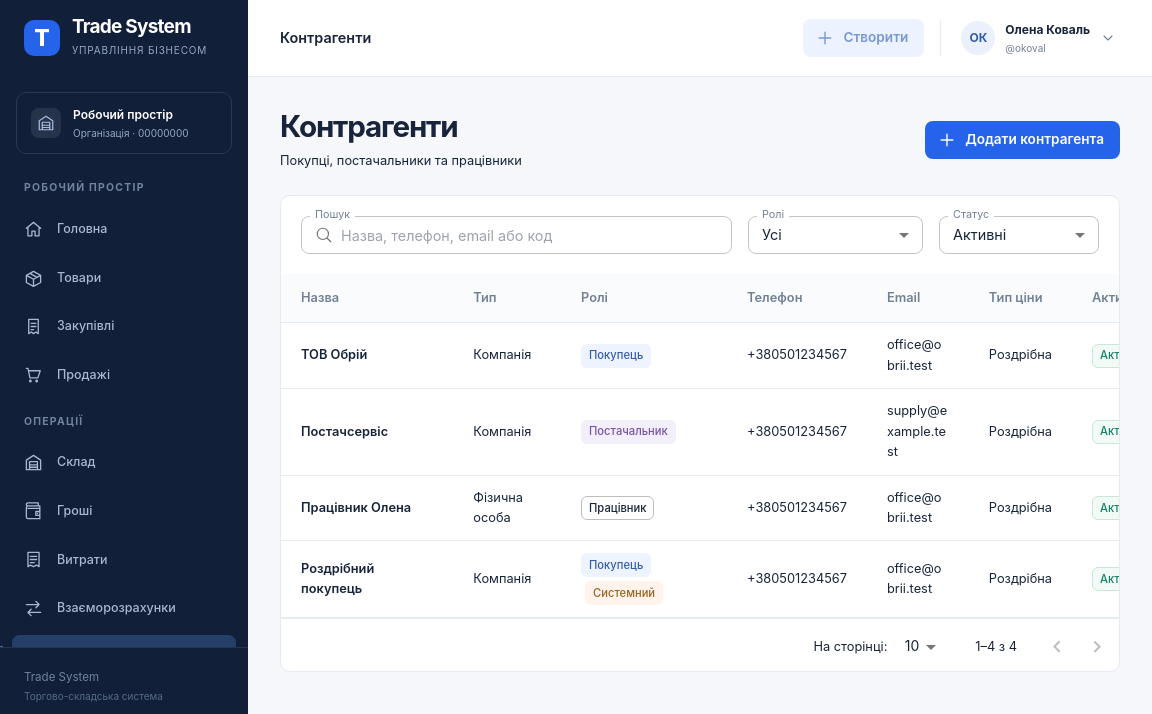
Counterparty UI › filters inactive parties and includes them in All
Check: the link "ТОВ Обрій" is shown, box [301,347,367,362]
Click the dropdown named "Статус". click: click(980, 234)
box: [953,226,1006,243]
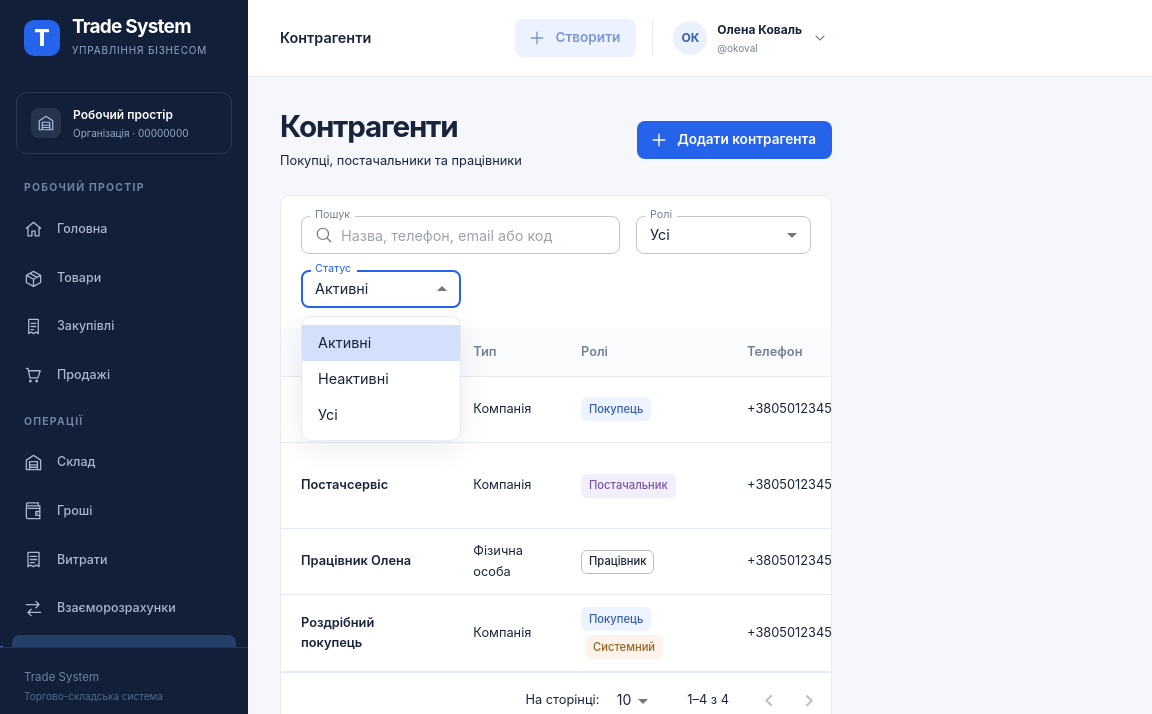
Click the option "Неактивні". click: click(353, 378)
box: [318,370,389,387]
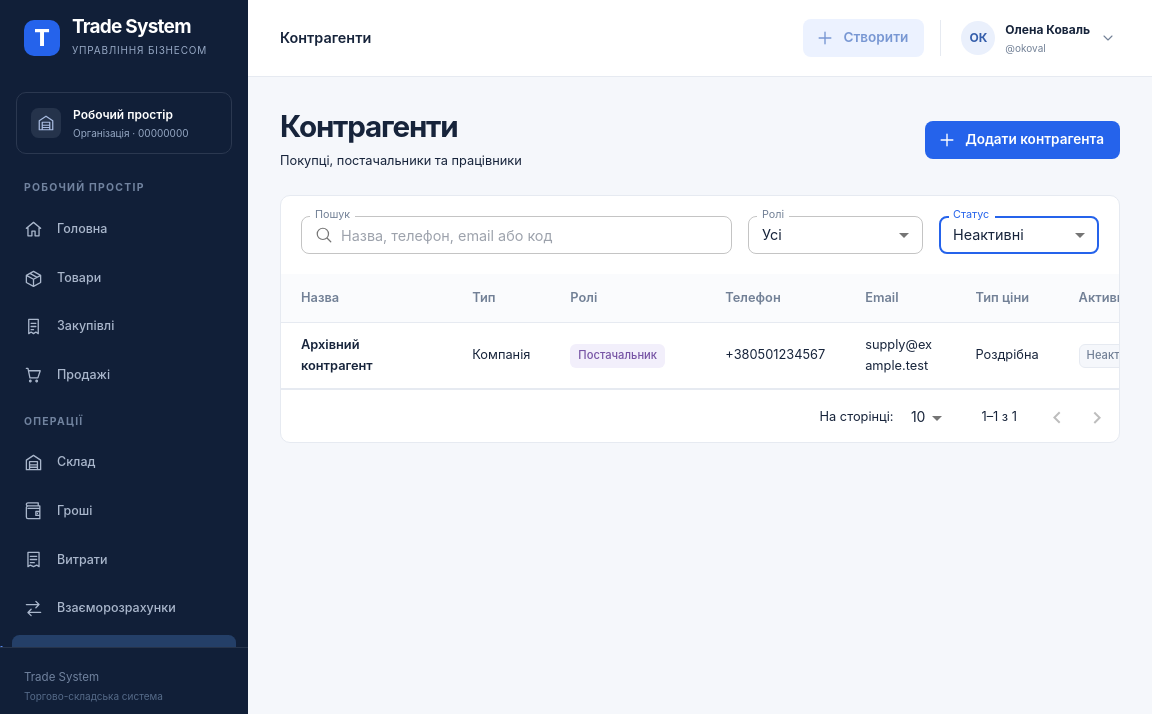
Check: the link "Архівний контрагент" is shown, box [301,337,373,373]
Click the dropdown named "Статус". click: click(988, 234)
box: [953,226,1024,243]
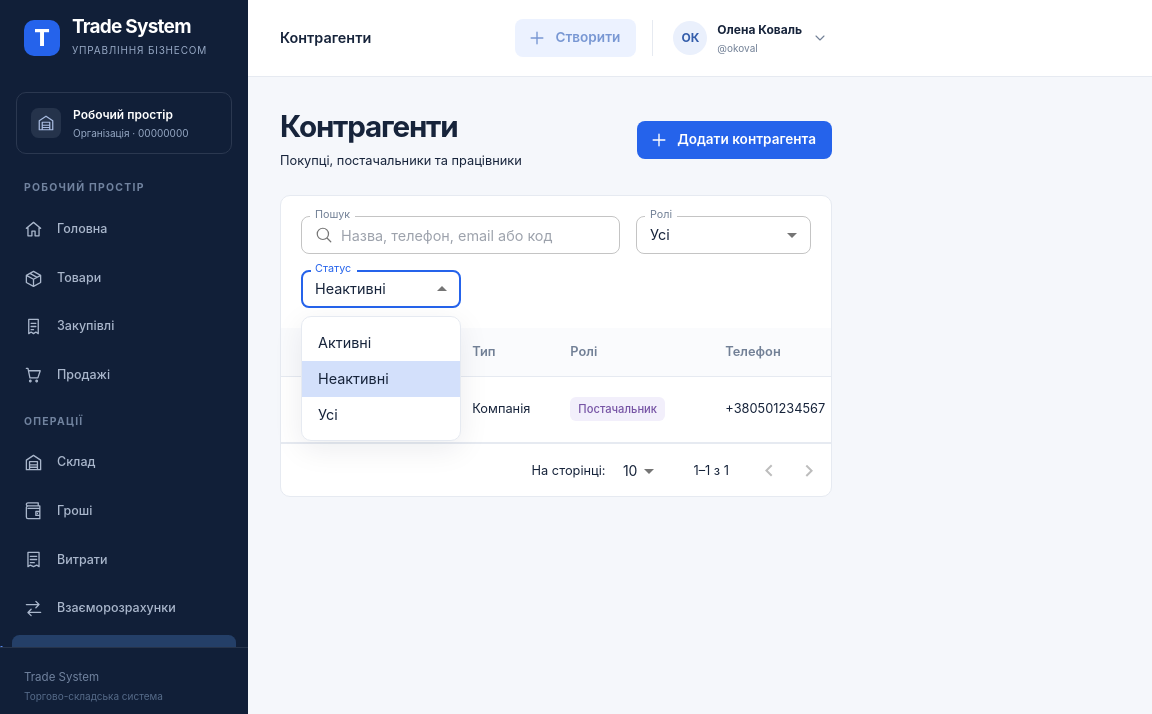
Click the option "Усі". click: click(328, 414)
box: [318,406,338,422]
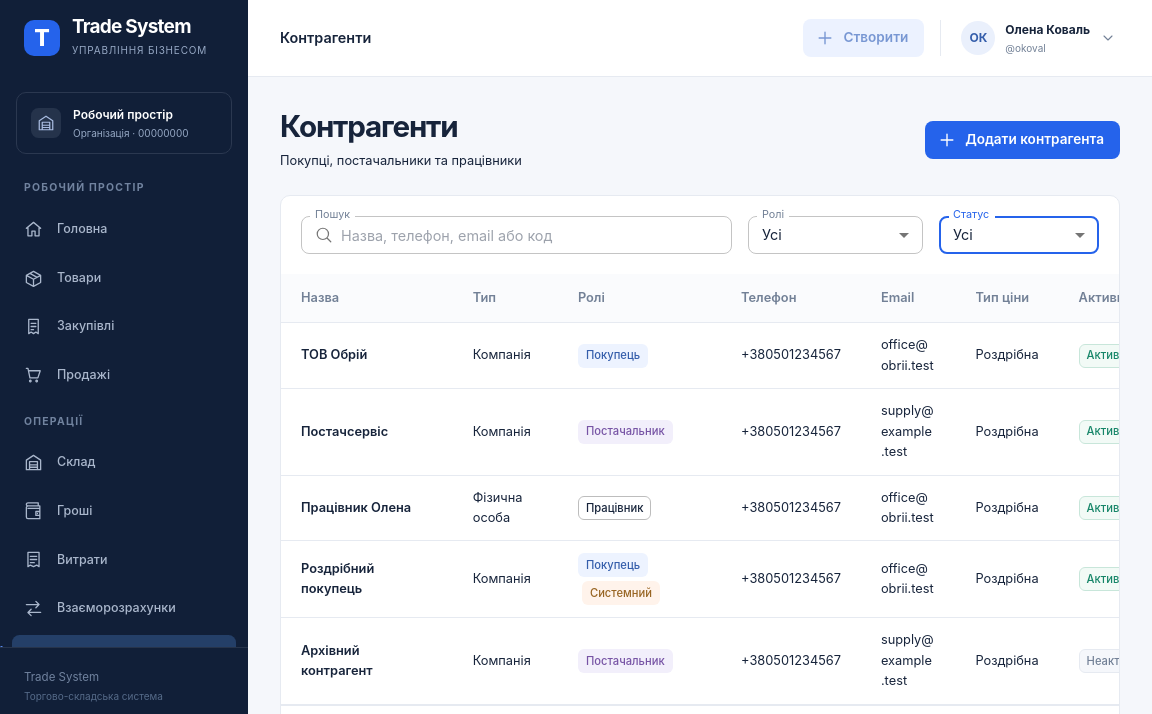
Check: the link "Архівний контрагент" is shown, box [301,643,373,678]
Check: the link "ТОВ Обрій" is shown, box [301,347,367,362]
